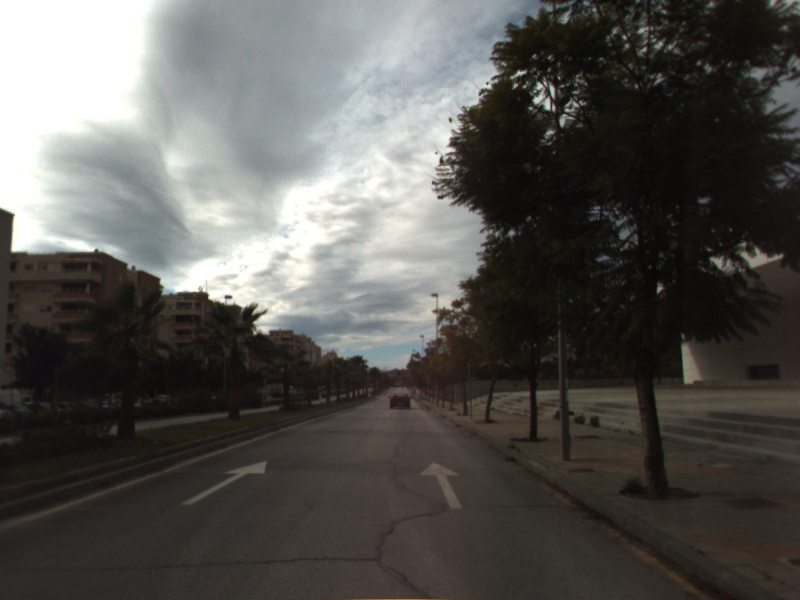STRAIGHT: (179, 458, 269, 507), (418, 460, 466, 511)
